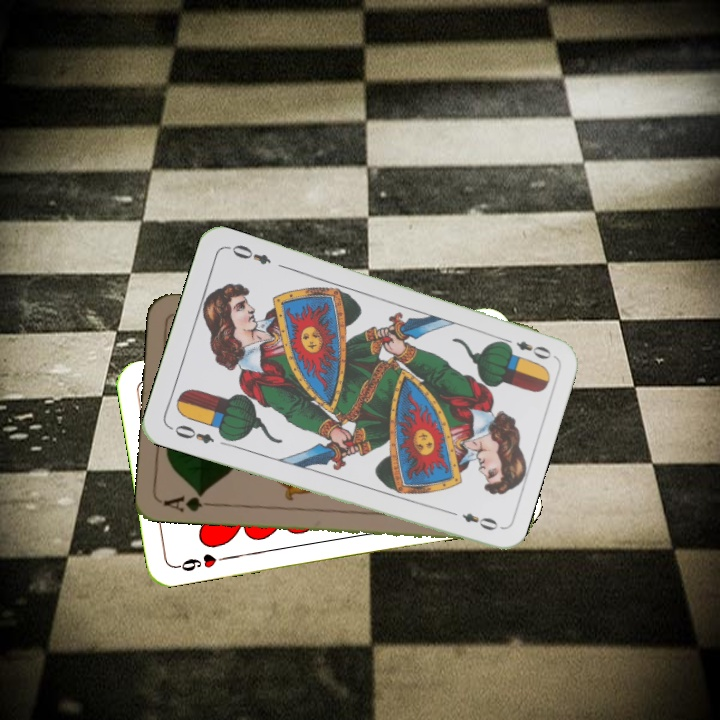EO: (497, 333, 554, 362), (166, 421, 217, 447)
GA: (159, 488, 219, 515)
H9: (171, 549, 230, 574)
